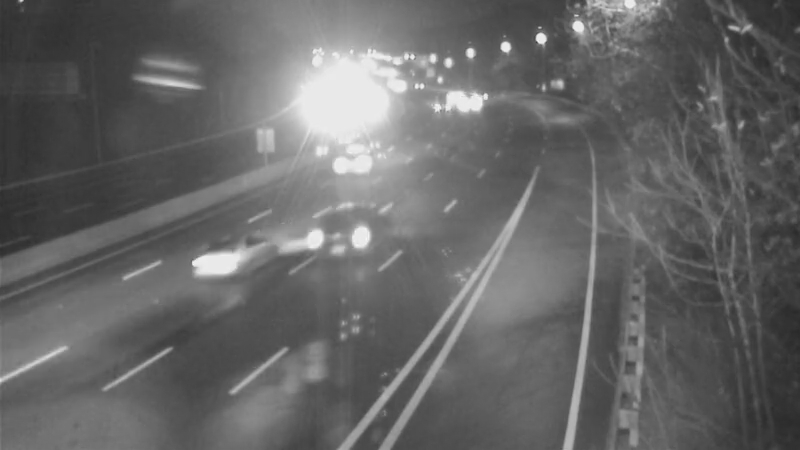vehicle: (302, 124, 382, 204), (304, 188, 384, 268)
